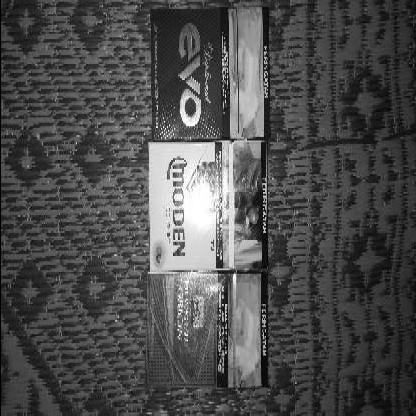objects: (150, 5, 270, 140), (148, 139, 266, 271), (145, 272, 266, 388)
